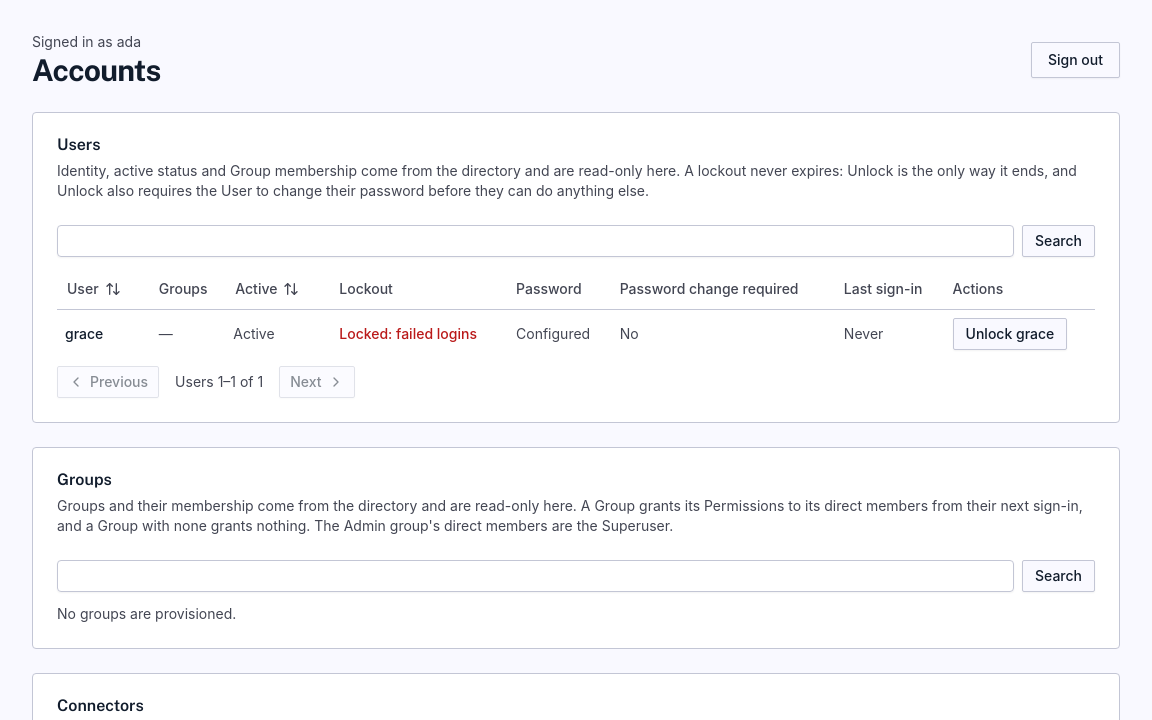
Test: Accounts › reports an Unlock refused because the User is no longer locked
Click the button "Unlock grace": (1010, 334) x1=953 y1=318 x2=1067 y2=350
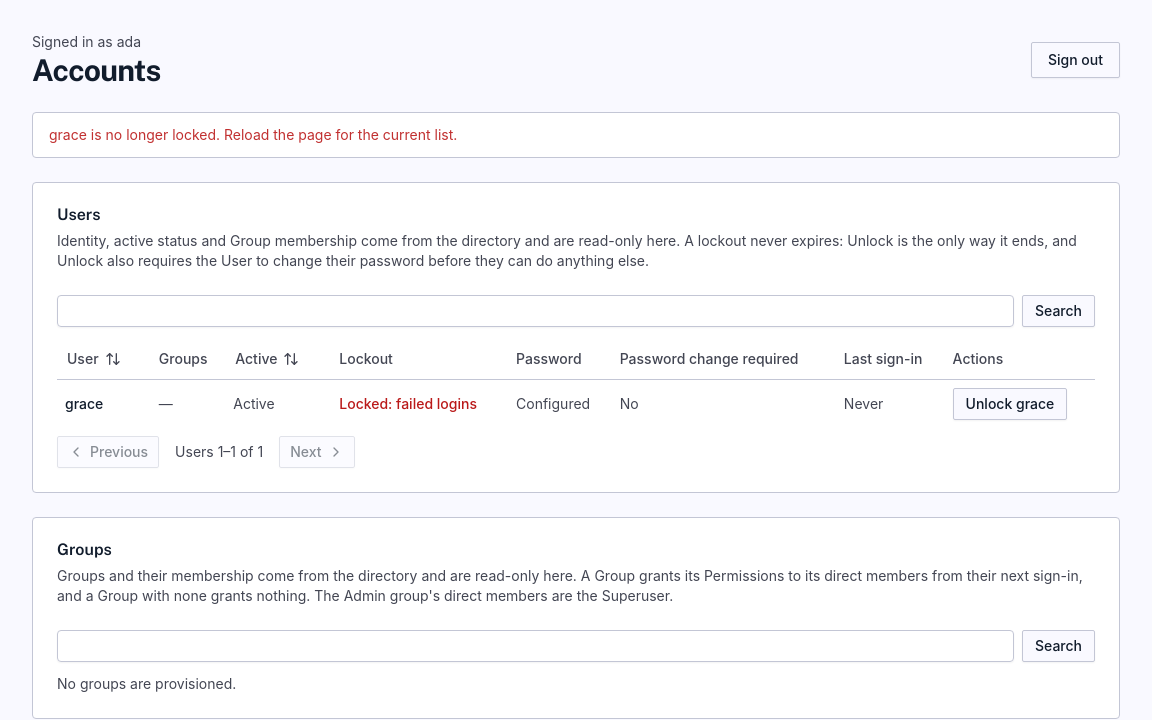
Expected: the text "Locked: failed logins" is shown, x1=339 y1=394 x2=477 y2=412
Now the message reads "grace is no longer locked. Reload the page for the current list.", box x1=49 y1=126 x2=457 y2=143
